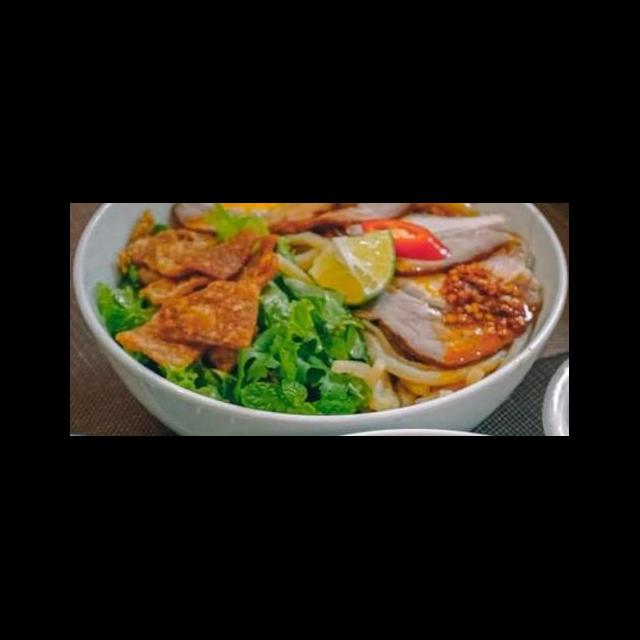banh da: (246, 242, 413, 294), (392, 225, 565, 274), (197, 223, 377, 269), (394, 255, 529, 292), (352, 279, 509, 304), (338, 234, 430, 270)
mi: (109, 324, 347, 408)
mi quang: (72, 214, 570, 436)
thit heo: (206, 339, 480, 426), (402, 340, 556, 416)
